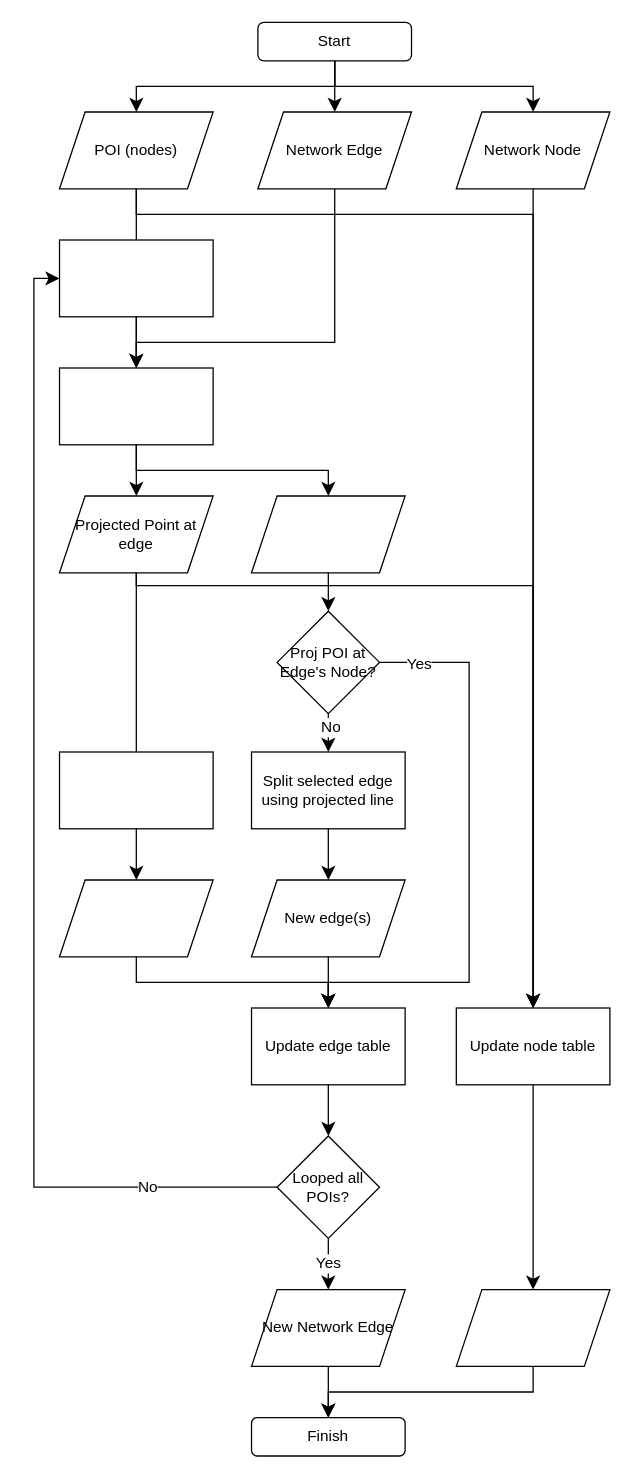
The diagram is 632 pixels wide and 1478 high, and some of its shapes have lost their labels. The box of each missing label's shape, as (x1, y1, x2, y2) in pixels:
Connector Edge: (58, 879, 213, 957)
Create connector edge: (58, 751, 213, 829)
Find nearest edge: (58, 367, 213, 445)
Loop POIs: select 1 POI: (58, 239, 213, 317)
New Network Node: (455, 1288, 610, 1366)
Selected Nearest Edge: (250, 495, 405, 573)
